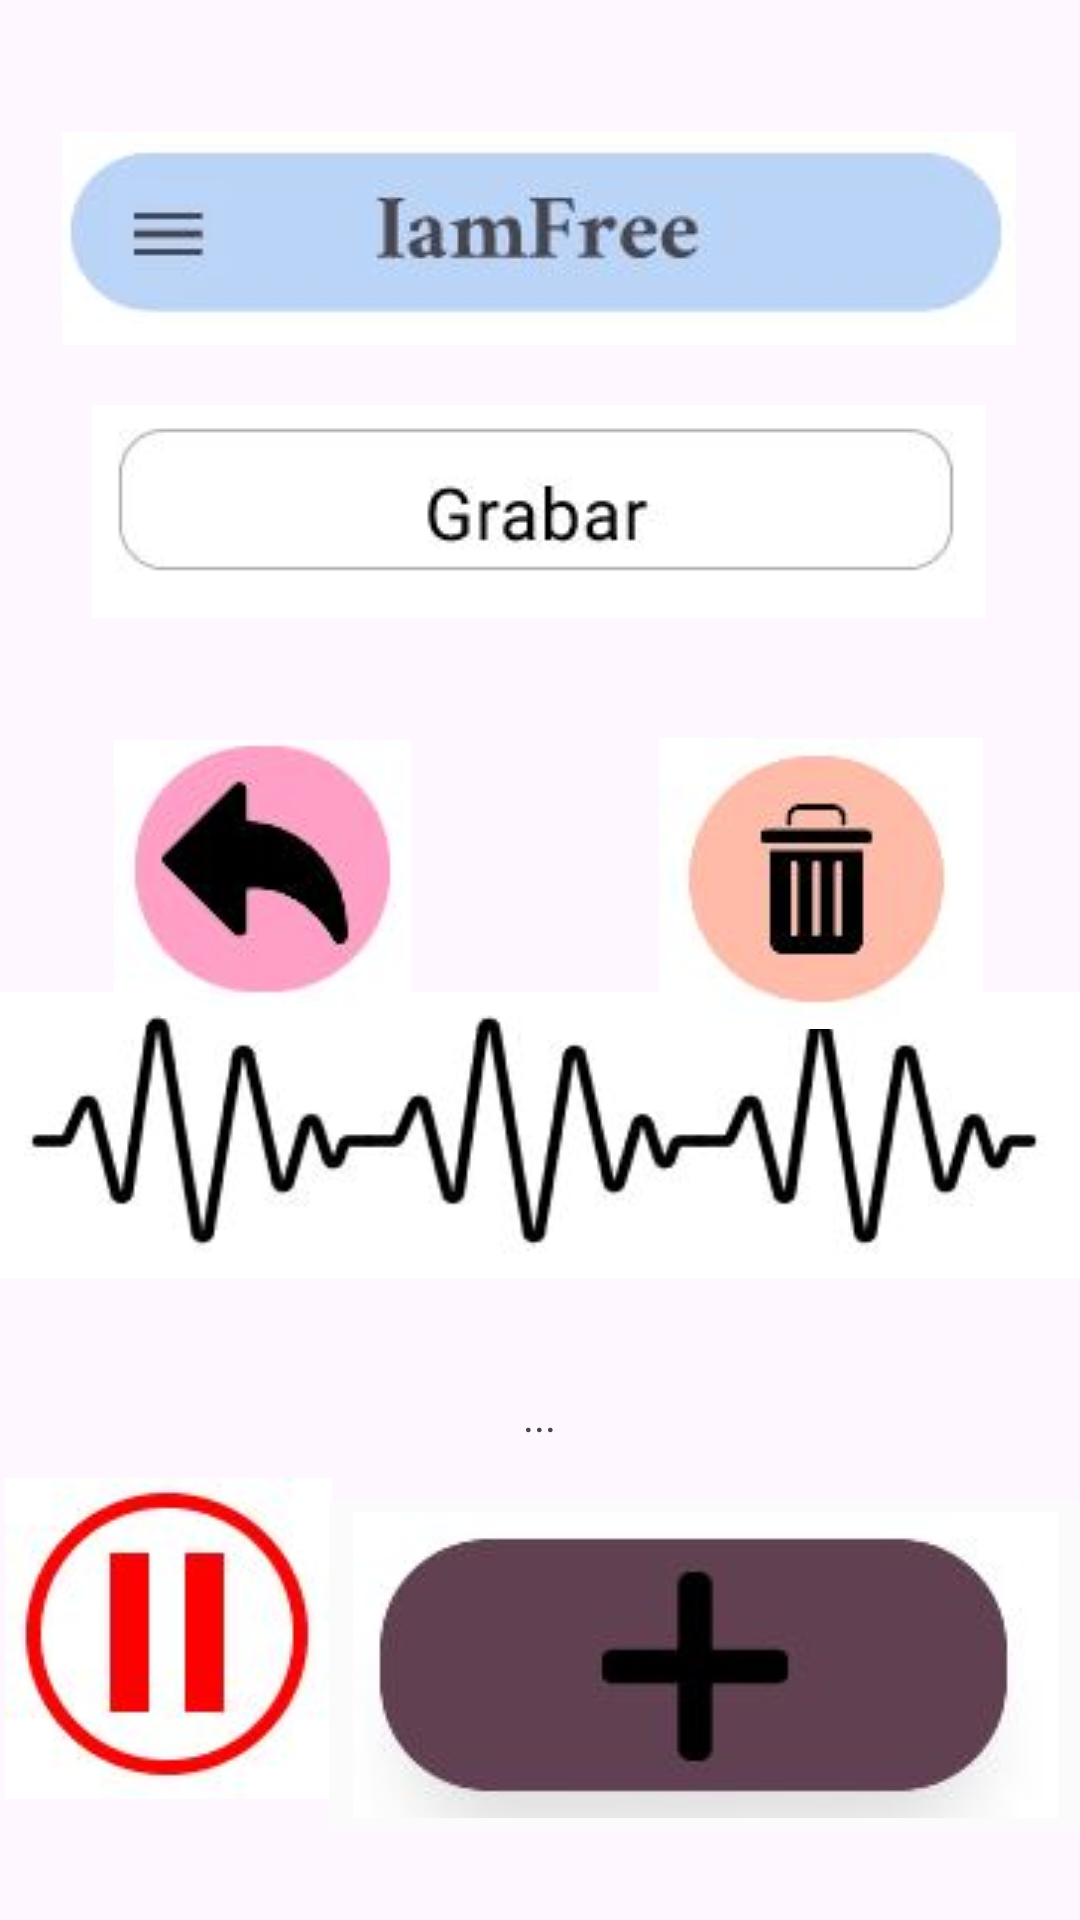

Icons on this 1080w x 1920h Android screen, each with its box as (x1, y1, x2, y2):
atras: (134, 745, 391, 993)
borra: (688, 755, 945, 1003)
pausar: (5, 1491, 311, 1777)
